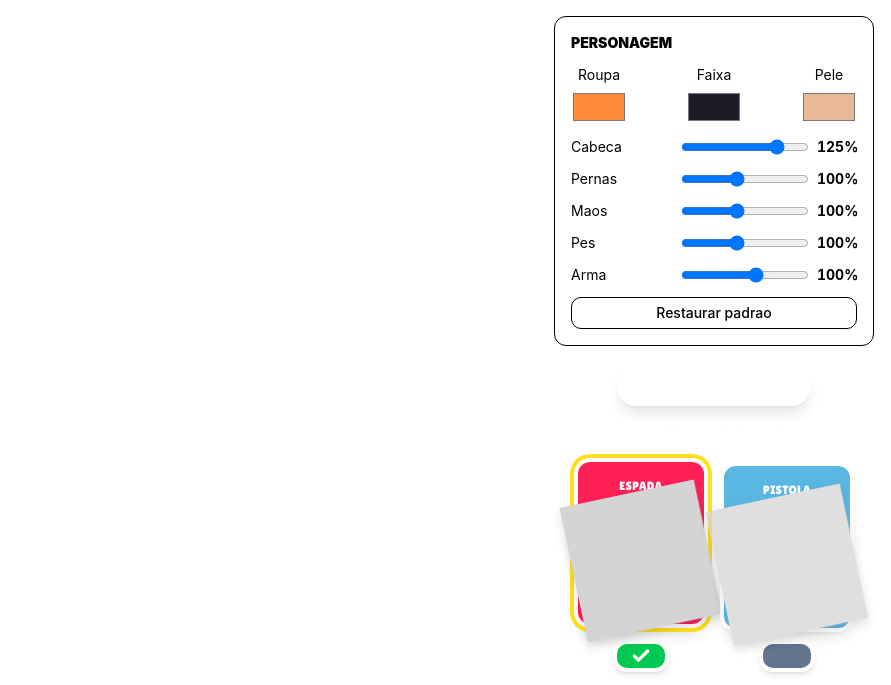
Test: CharacterPage › mostra o valor de cada tamanho em porcentagem ao lado do slider
This screenshot has width=891, height=685.
Expected: the text "125%" is shown, left=817, top=137, right=857, bottom=157
Step 1. Set the slider labelled "Cabeca" to "0.8" → point(705, 147), box left=681, top=139, right=809, bottom=155
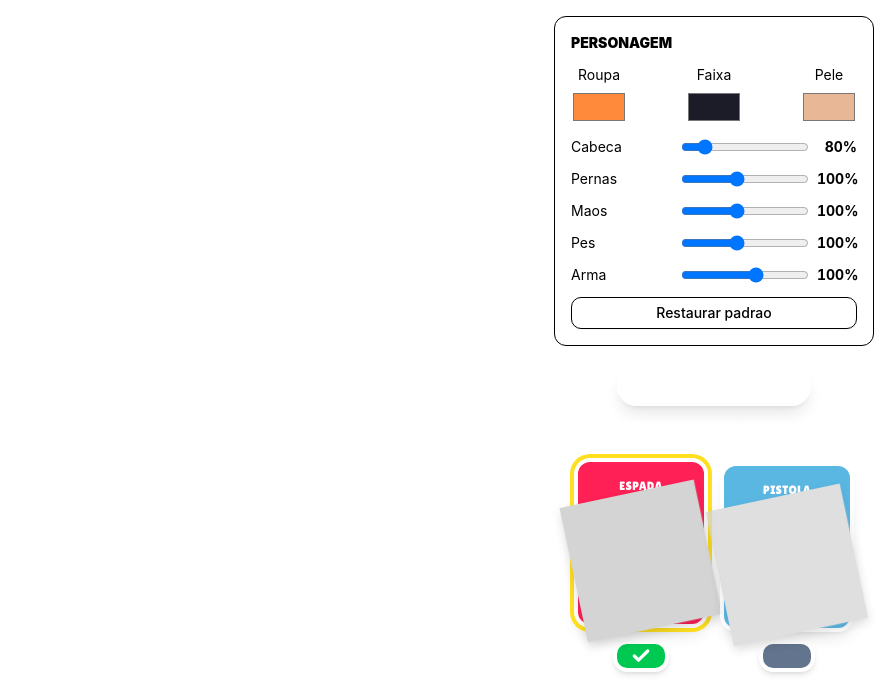
Expected: the text "80%" is shown, left=825, top=138, right=857, bottom=155
